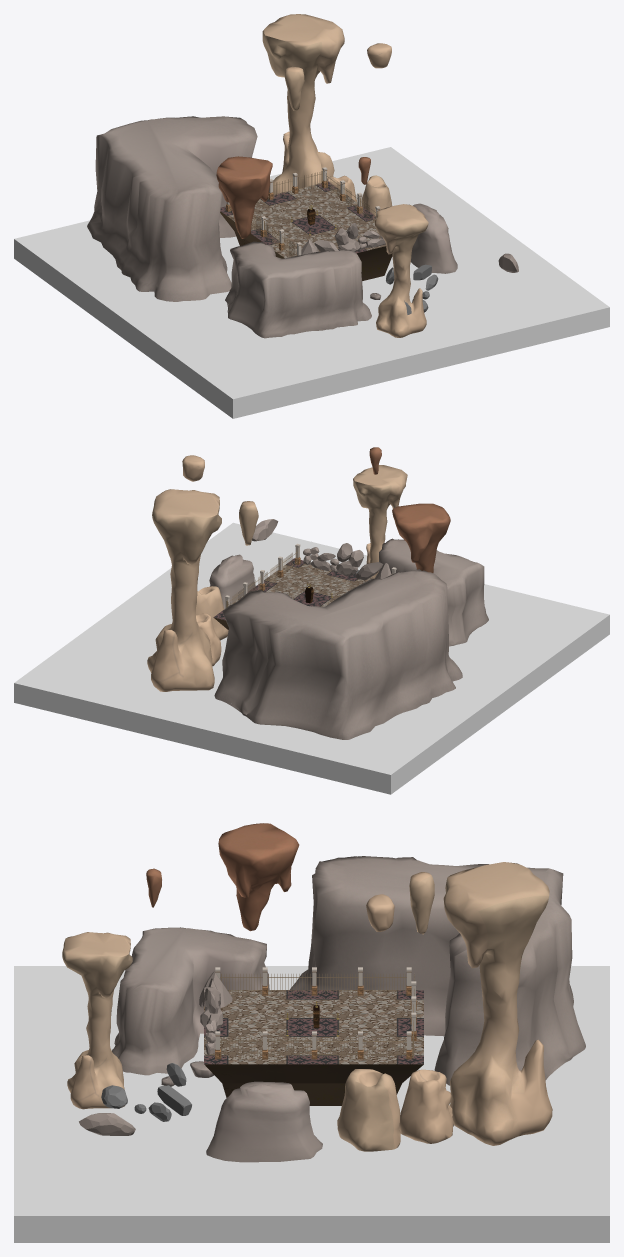
Rendered from room2.fbx.
The picture shows the model from 3 angles, top to bottom: view 1: azimuth 30°, elevation 25°; view 2: azimuth 150°, elevation 25°; view 3: azimuth 270°, elevation 25°; orthographic projection. The views are drawn at different scales.
Parts seen in each view (by area): view 1: Box809, Plane.005, Plane.004, pilar1_1, Box779, pilar1, pilar2_1, Plane.003, pilar3, pilar4_1; view 2: Box809, Plane.005, pilar1_1, Plane.004, Box779, pilar1, pilar2_1, Plane.003, pilar3, pilar4_1, pilar6, pilar5; view 3: Box809, Plane.005, pilar1_1, Box779, Plane.004, Plane.003, pilar1, pilar2_1, pilar3, pilar6, pilar4_1, Sphere.002 (+6 smaller).
Boxes of the visible parts, x1,y1,x2,y2 form: Box809: (14, 147, 609, 418); Plane.005: (87, 116, 257, 301); Plane.004: (225, 241, 371, 338); pilar1_1: (262, 14, 344, 194); Box779: (220, 181, 392, 281); pilar1: (375, 204, 428, 337); pilar2_1: (216, 156, 272, 238); Plane.003: (411, 203, 457, 273); pilar3: (362, 175, 392, 215); pilar4_1: (285, 66, 304, 110); Box809: (14, 522, 609, 794); Plane.005: (214, 569, 462, 739); pilar1_1: (147, 489, 221, 691); Plane.004: (378, 538, 488, 646); Box779: (213, 558, 374, 629); pilar1: (353, 465, 407, 577); pilar2_1: (392, 503, 450, 572); Plane.003: (209, 554, 255, 608); pilar3: (196, 586, 228, 640); pilar4_1: (239, 501, 258, 545); pilar6: (196, 613, 221, 666); pilar5: (182, 455, 204, 481); Box809: (14, 966, 609, 1242); Plane.005: (290, 856, 585, 1085); pilar1_1: (443, 862, 552, 1145); Box779: (204, 990, 423, 1105); Plane.004: (112, 927, 269, 1075); Plane.003: (206, 1081, 322, 1162); pilar1: (62, 932, 132, 1109); pilar2_1: (218, 823, 299, 931); pilar3: (337, 1069, 400, 1151); pilar6: (399, 1069, 453, 1143); pilar4_1: (409, 872, 434, 934); Sphere.002: (79, 1113, 135, 1135).
Size of the model in its own units: 2454 by 1279 by 2471.
Materials: 31 (29 with a texture image).
